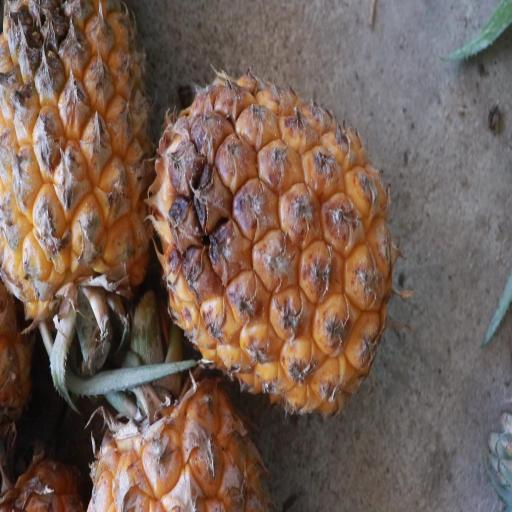Pineapple - v8 v1: (146, 68, 400, 422), (0, 2, 157, 355)
